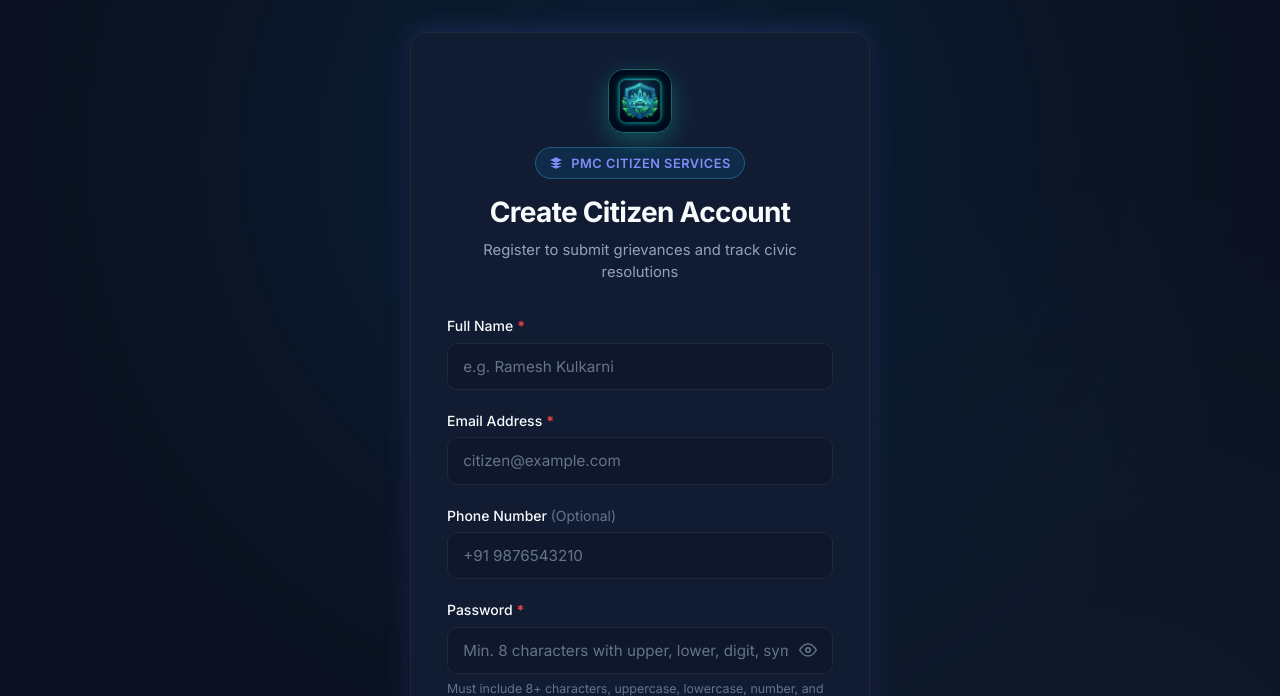
Test: RegisterPage Component › displays backend error message if email already exists
Type "Pradnya Ghodke" into the field labelled "Full Name*". click: (640, 366)
box: [447, 343, 833, 390]
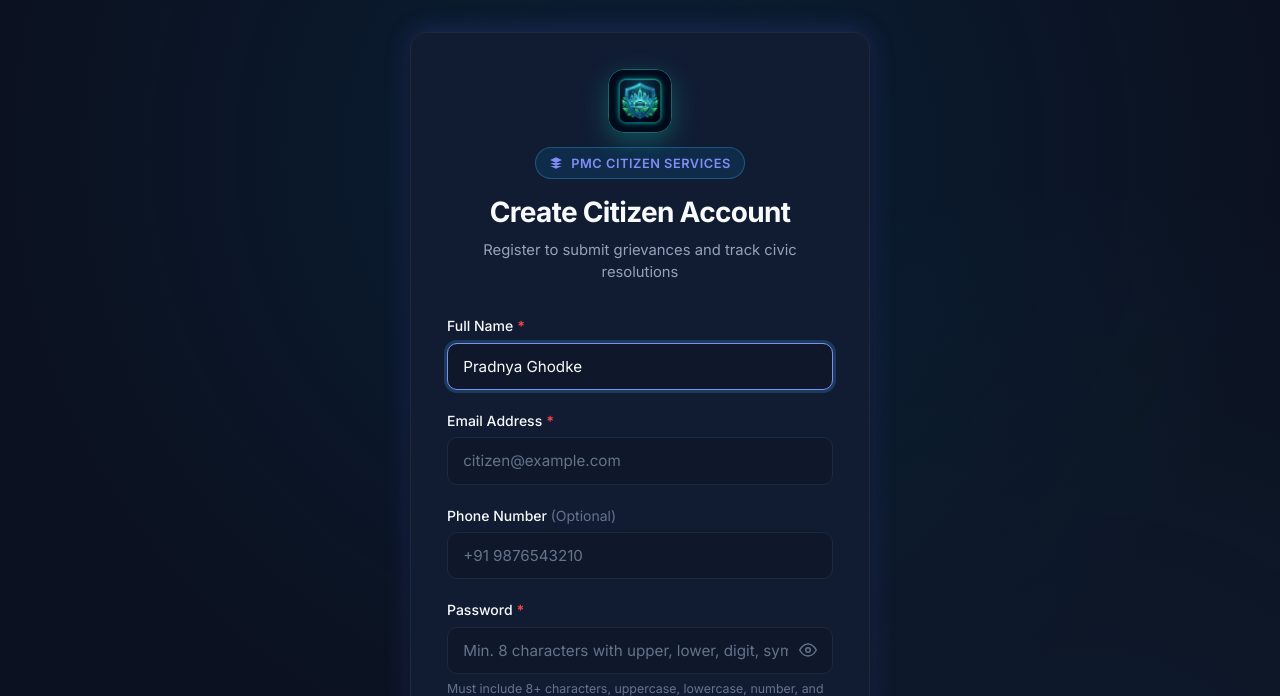
Type "existing@example.com" into the field labelled "Email Address*". click: (640, 461)
box: [447, 437, 833, 485]
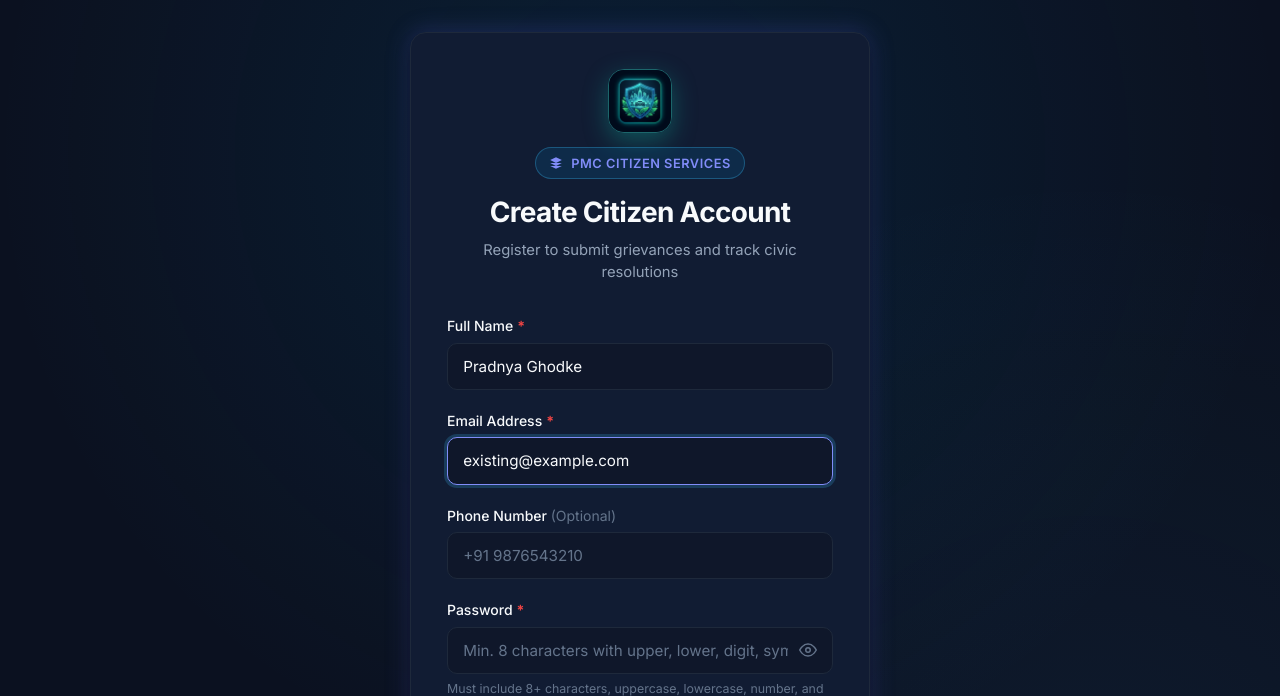
Type "StrongPass#123" into the password field labelled "Password*". click: (640, 650)
box: [447, 627, 833, 674]
(page scrolled)
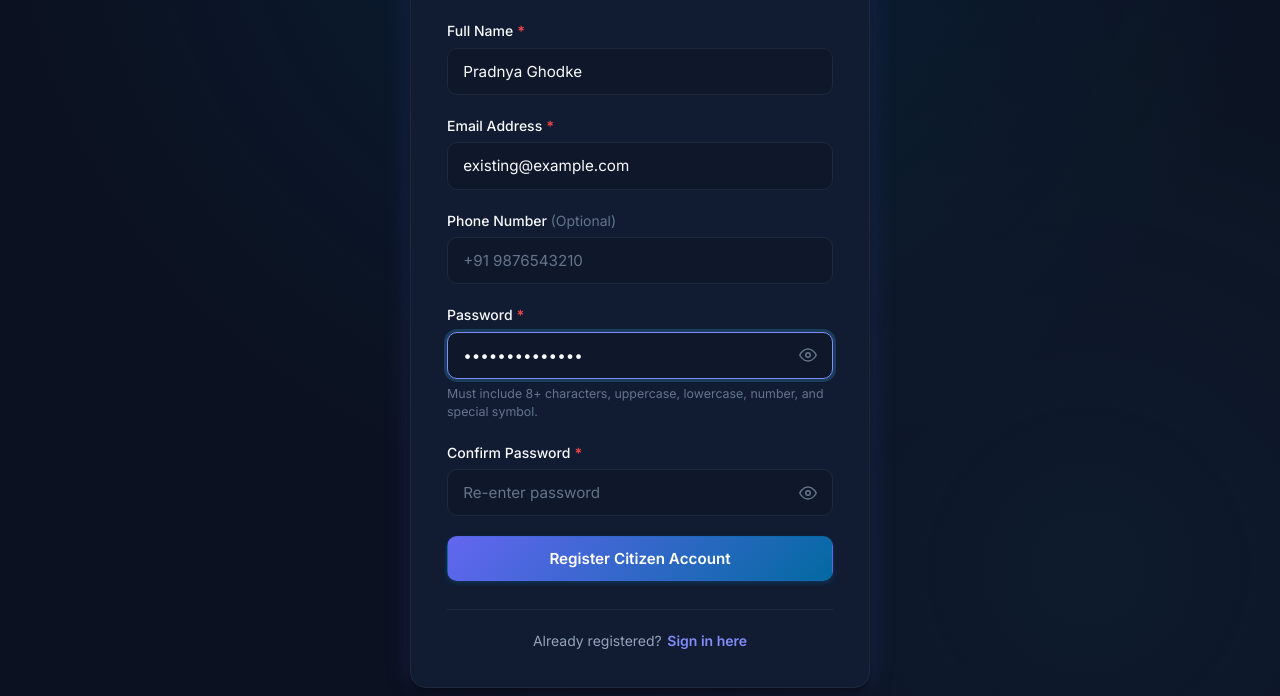
Type "StrongPass#123" into the password field labelled "Confirm Password*". click: (640, 493)
box: [447, 469, 833, 516]
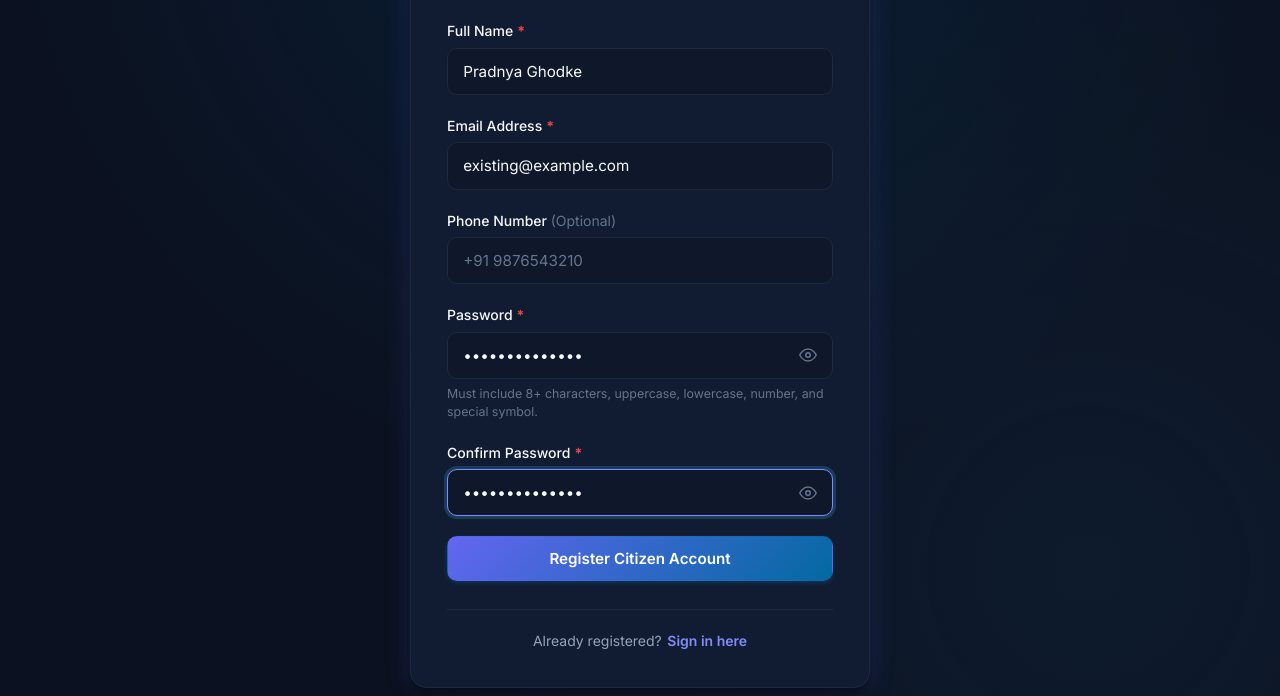
Click the button "Register Citizen Account". click: (640, 559)
box: [447, 536, 833, 581]
(page scrolled)
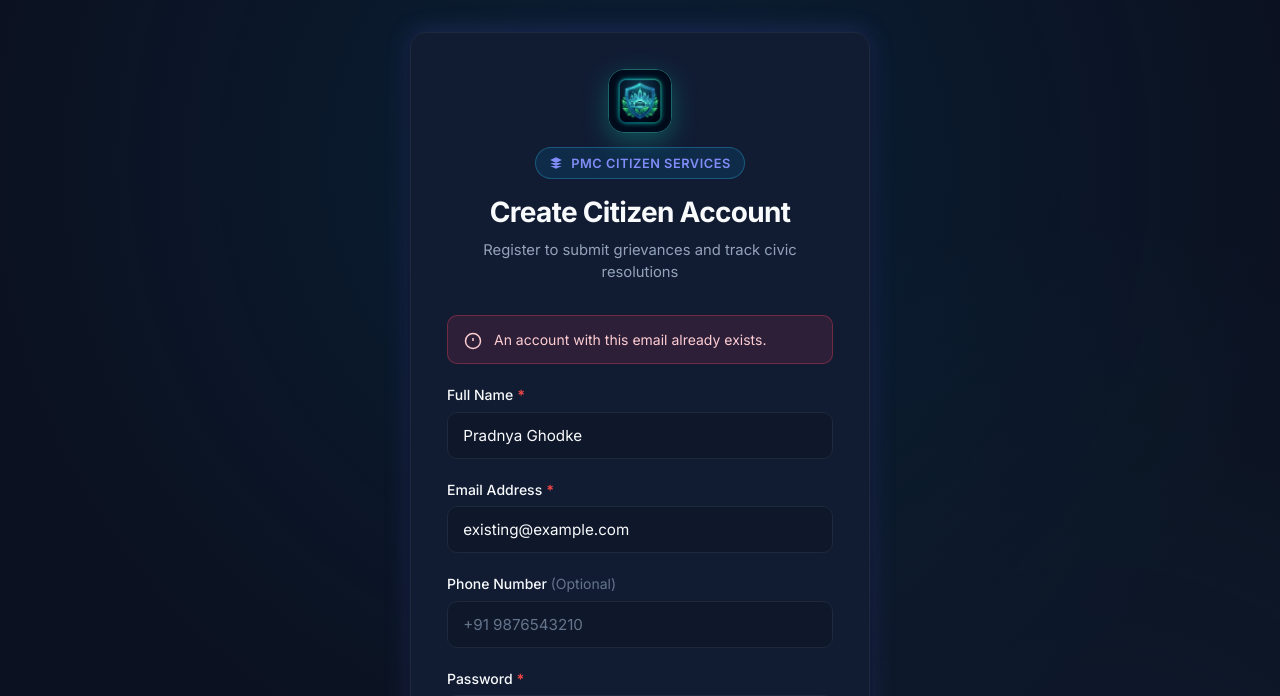
Now the text "An account with this email already exists." is shown, box [494, 330, 766, 350]
